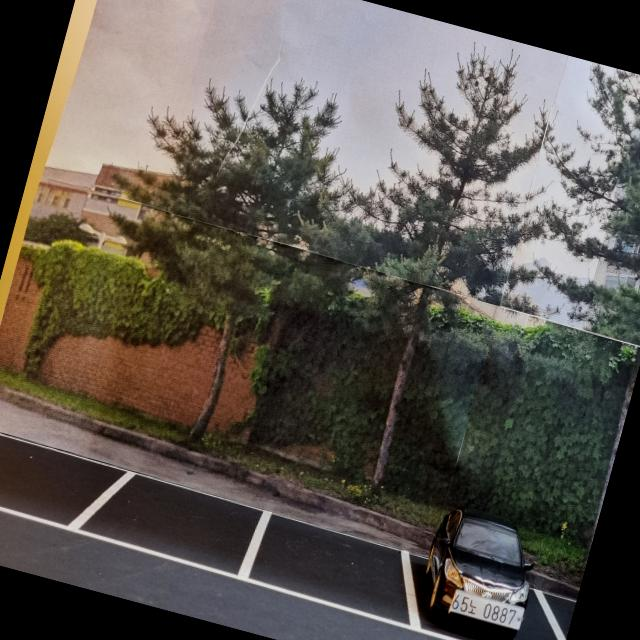car: (410, 500, 551, 640)
free: (232, 502, 438, 634), (72, 455, 270, 586), (0, 422, 115, 542)
